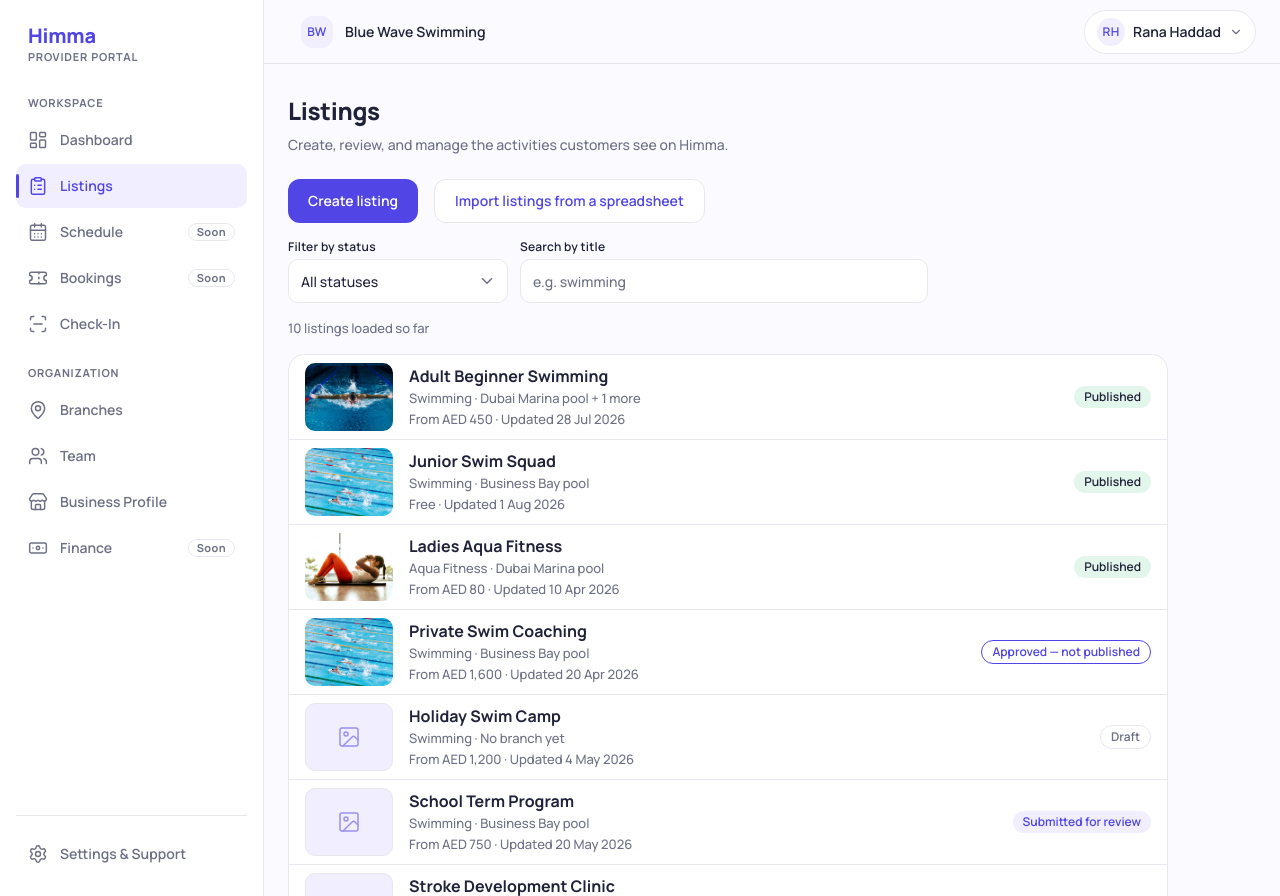
Scenario: bulk-import page (W2-10) › an authorized role reaches the import workspace from the Listings index
The image size is (1280, 896).
Expected: the heading "Listings" is shown, left=288, top=94, right=380, bottom=127
Click the link "Import listings from a spreadsheet" at (570, 201), box left=434, top=179, right=705, bottom=223
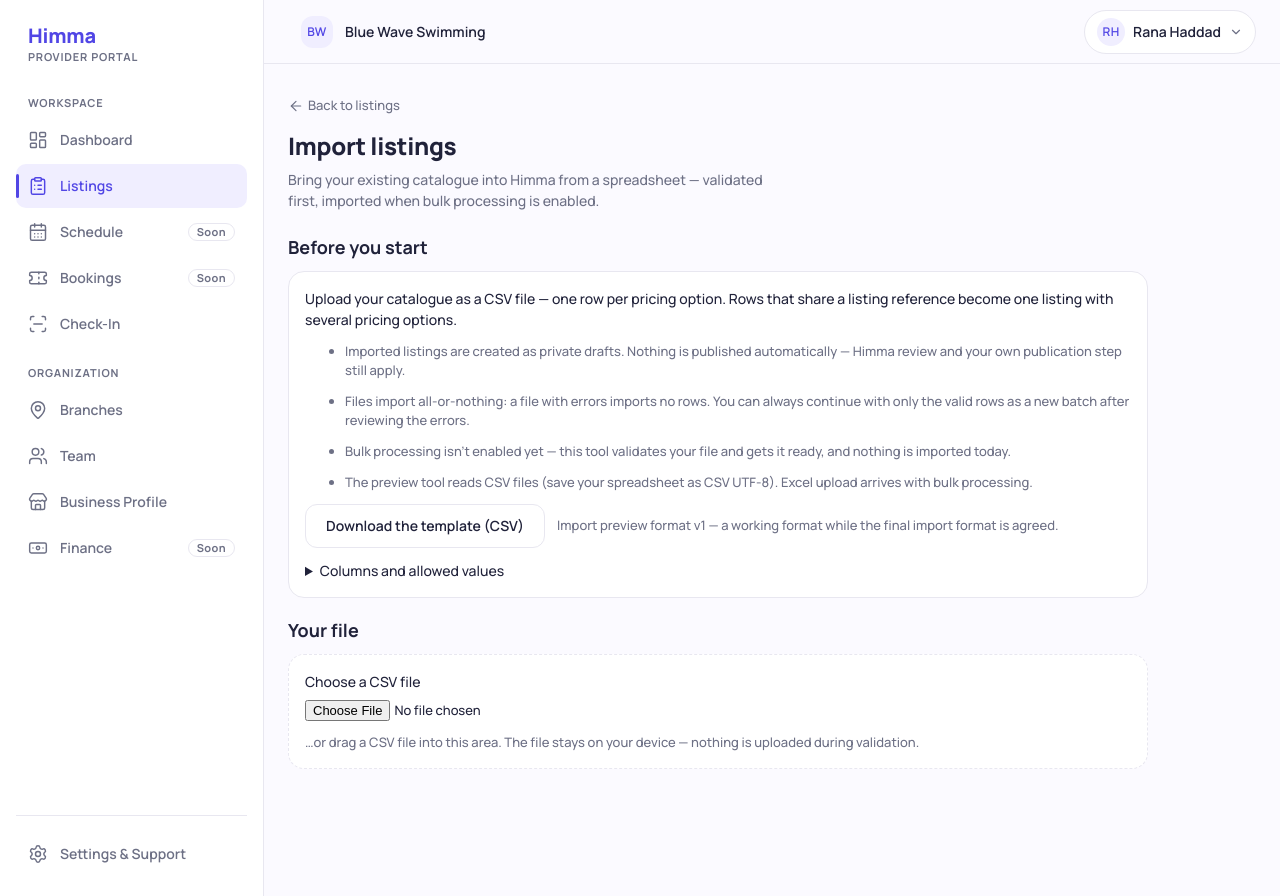
Result: the heading "Import listings" is shown at left=288, top=128, right=456, bottom=162
Result: the list item "Bulk processing isn’t enabled yet" is shown at left=345, top=442, right=1011, bottom=460
Result: the list item "created as private drafts" is shown at left=345, top=342, right=1122, bottom=378
